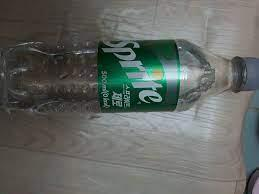sprite_zero: (1, 40, 258, 113)
